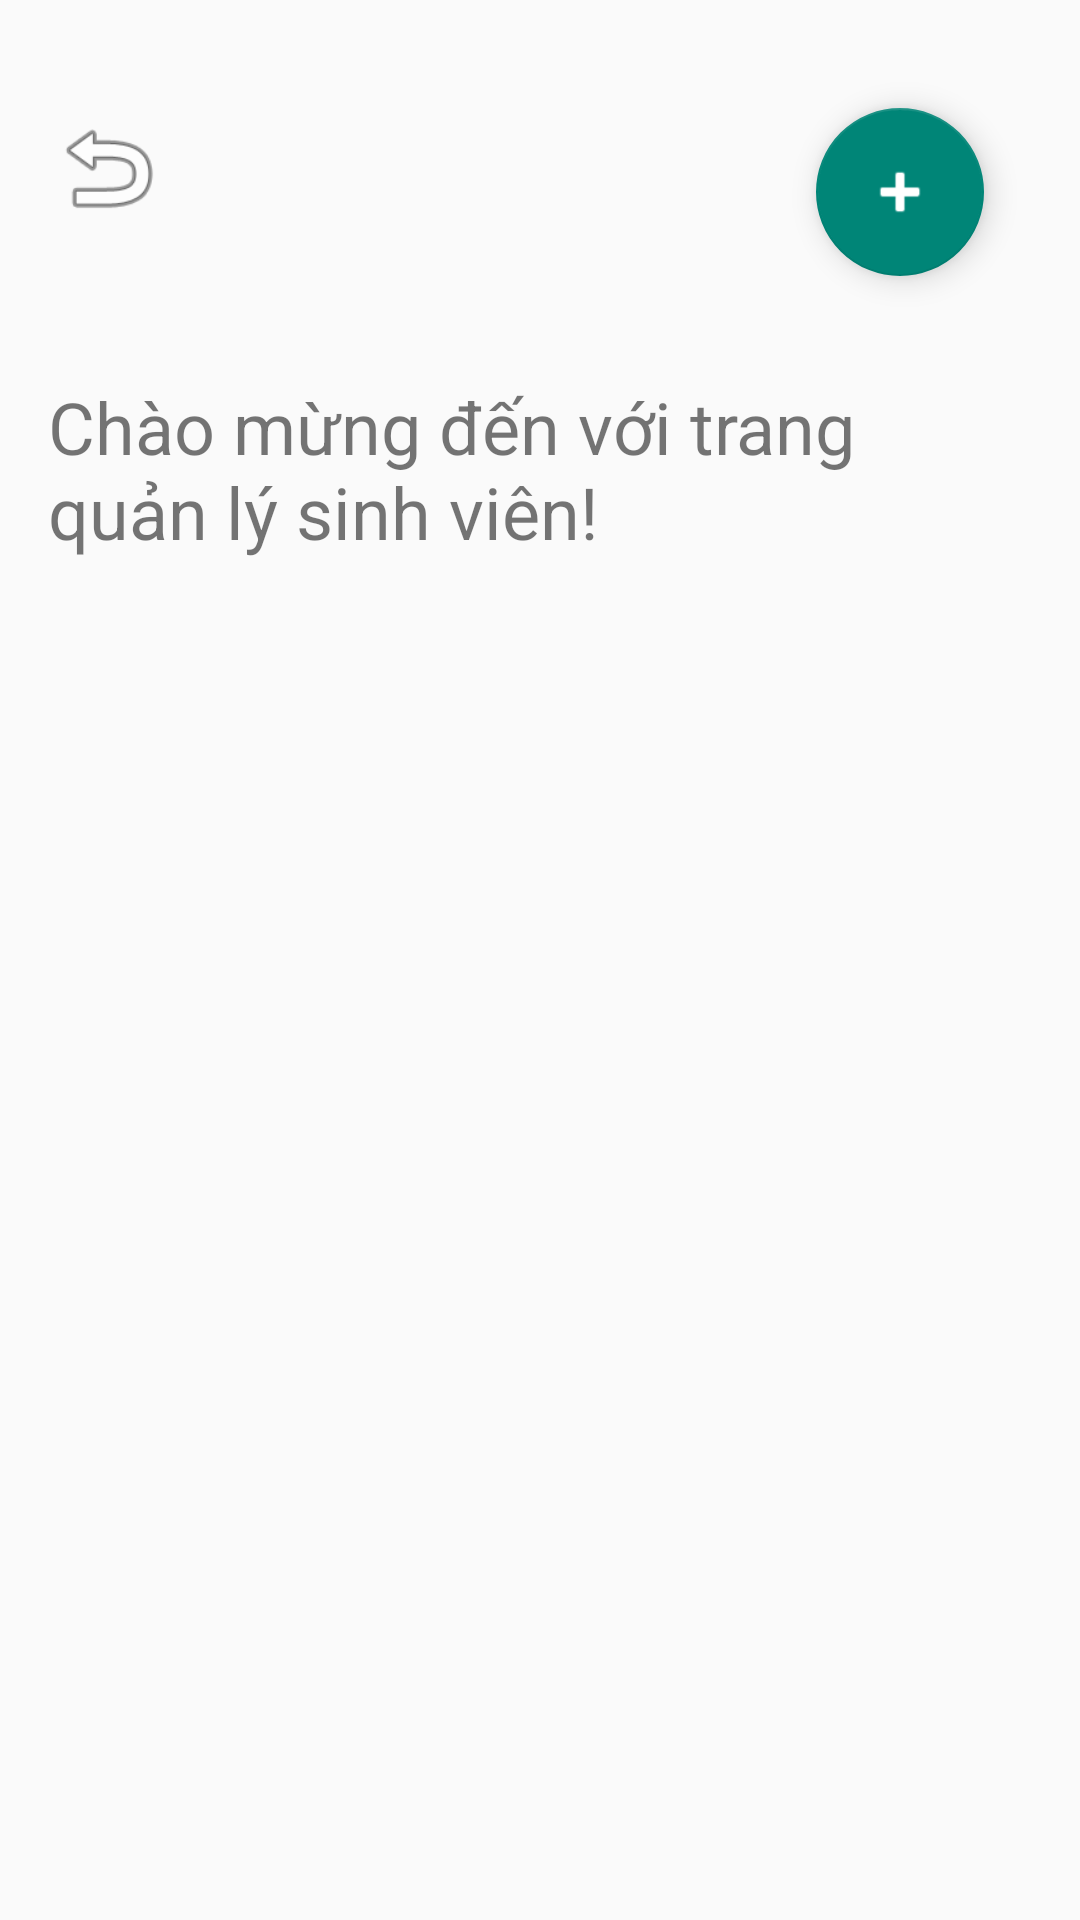

Screen size 1080w x 1920h. Icon name, then its box in pixels as bbox=(x1, y1, x2, y2):
revert: bbox=(66, 130, 153, 208)
Thêm sinh viên: bbox=(816, 108, 984, 276)
